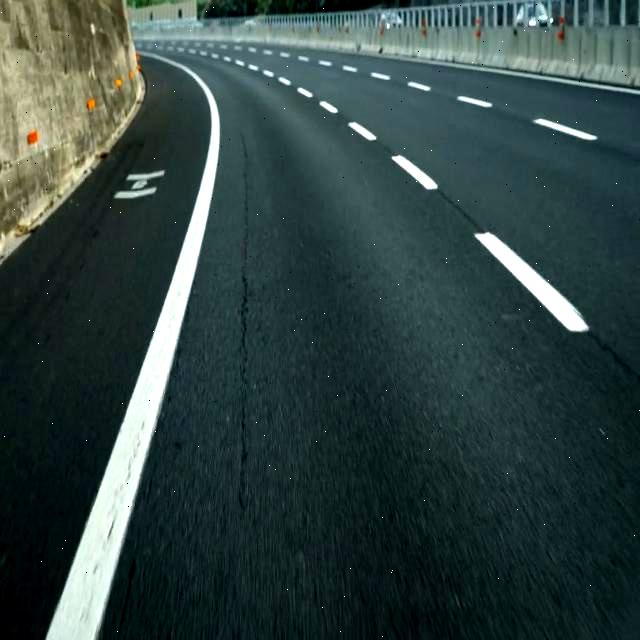lane: (50, 55, 220, 640), (476, 232, 589, 332), (392, 156, 438, 189), (534, 119, 598, 141), (458, 97, 492, 108), (319, 101, 339, 113), (358, 126, 365, 132)
road: (99, 50, 640, 639), (1, 59, 209, 639)
